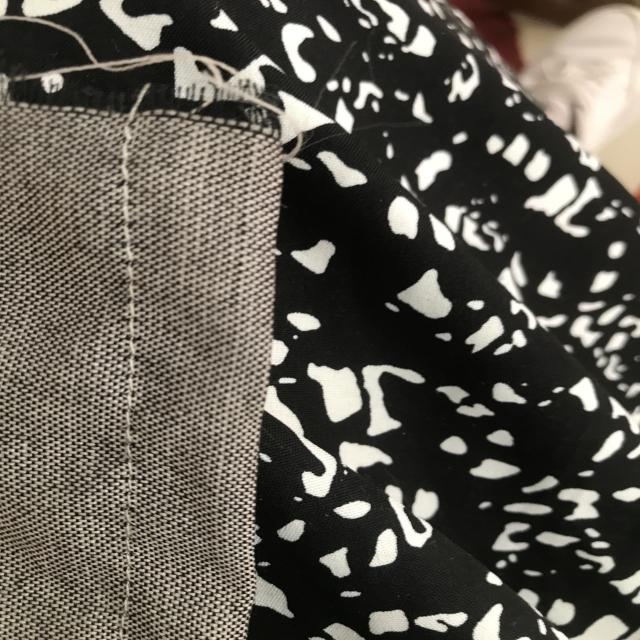good: (116, 306, 158, 534)
